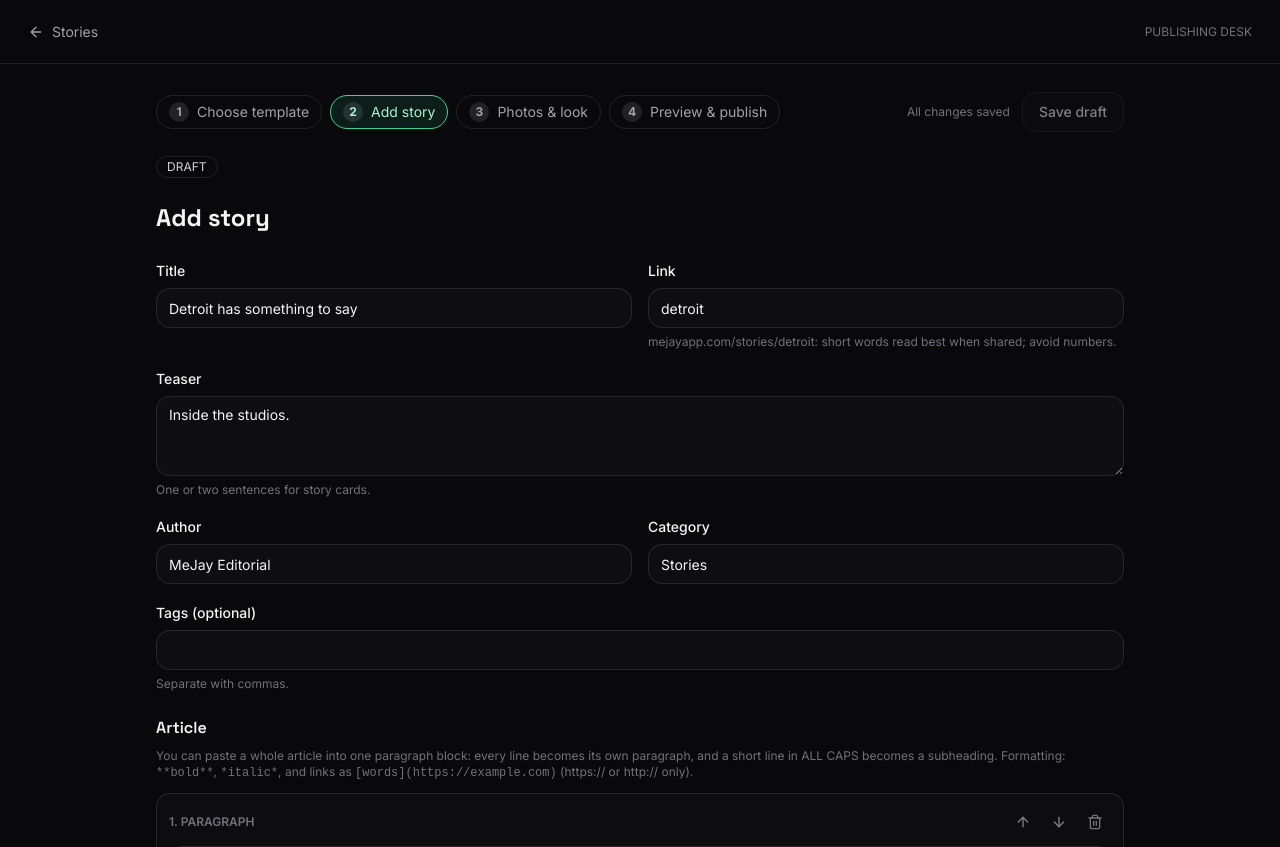
Test case: story wizard › has four labelled steps as real buttons and marks the current one
expect the heading "Add story" is shown: met, box [156,202,270,233]
Click the button "3 Photos & look" at (529, 112), box [456,95,601,129]
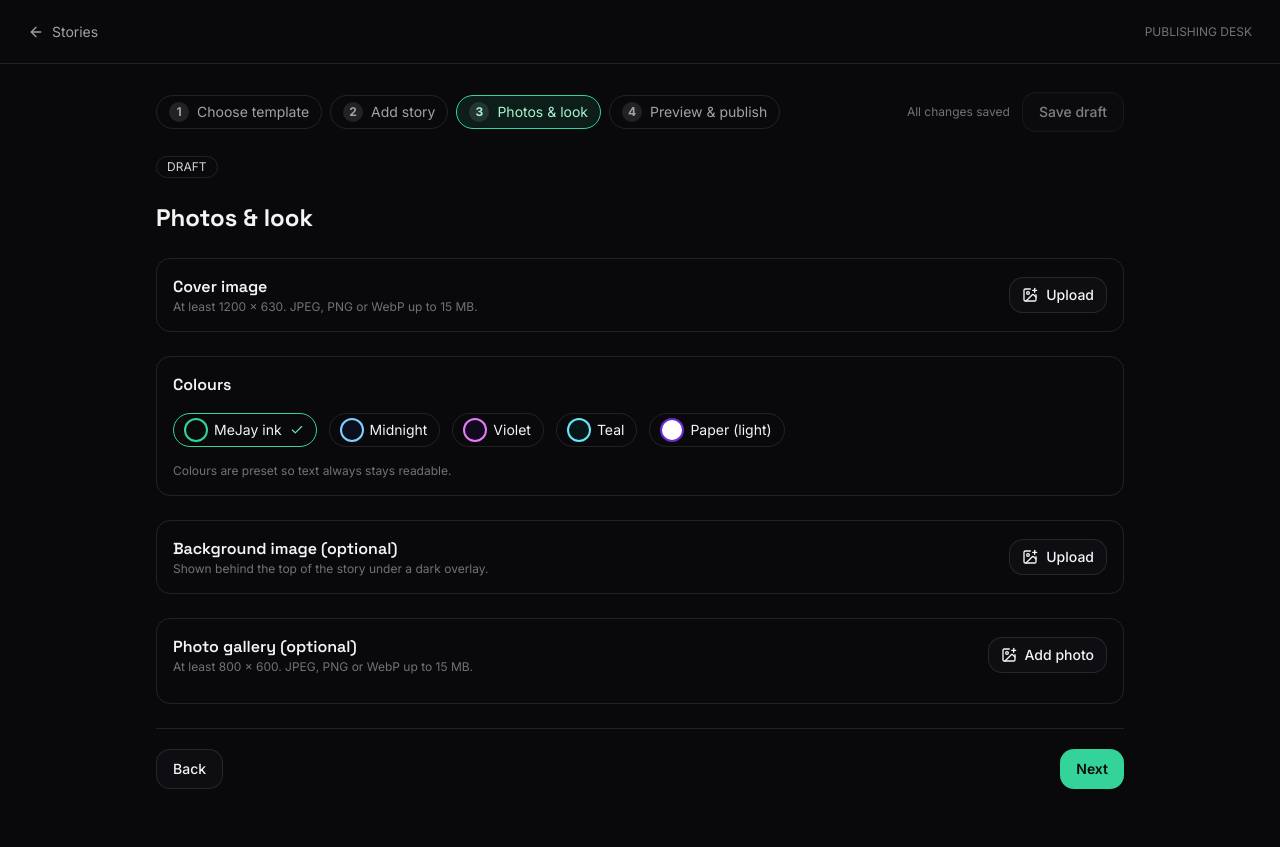
expect the heading "Photos & look" is shown: met, box [156,202,313,233]
